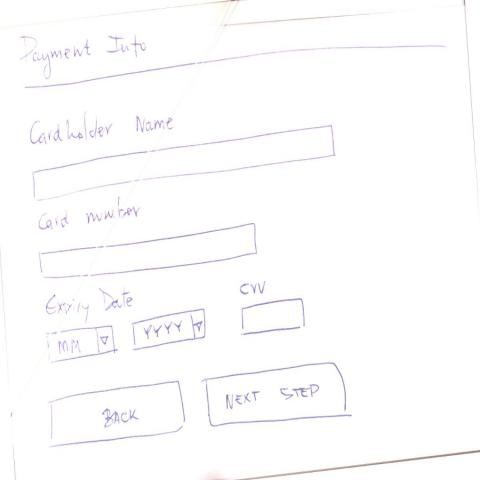Button: (201, 359, 353, 430), (49, 379, 186, 450)
Textbox: (38, 220, 258, 281)
